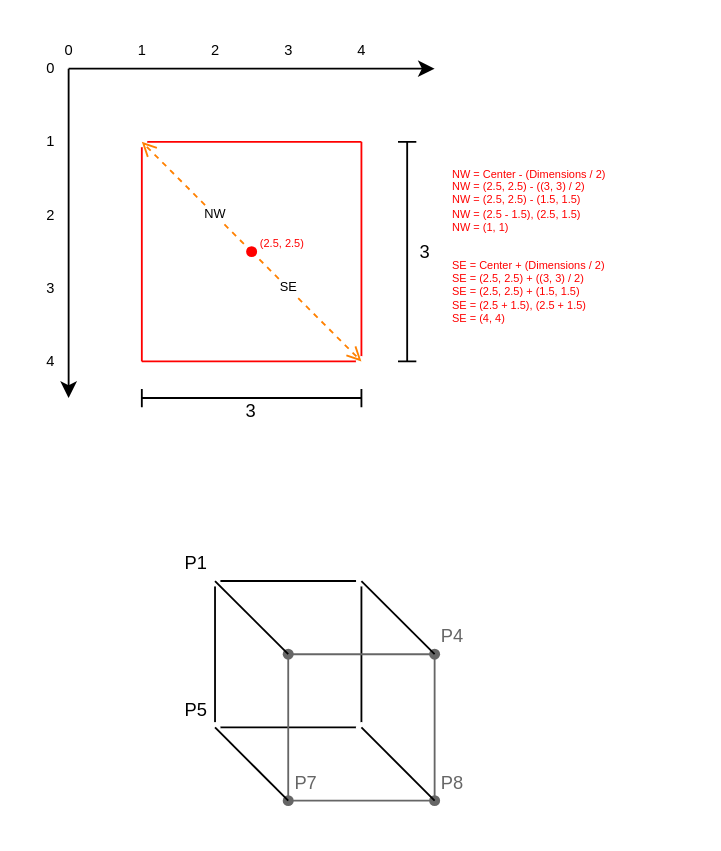
Image size: 721x851. Some labels were removed from this diagram. Each missing label, with the centre of its shape:
"P2" goes at (x=360, y=580).
"P3" goes at (x=287, y=653).
"P6" goes at (x=360, y=726).
